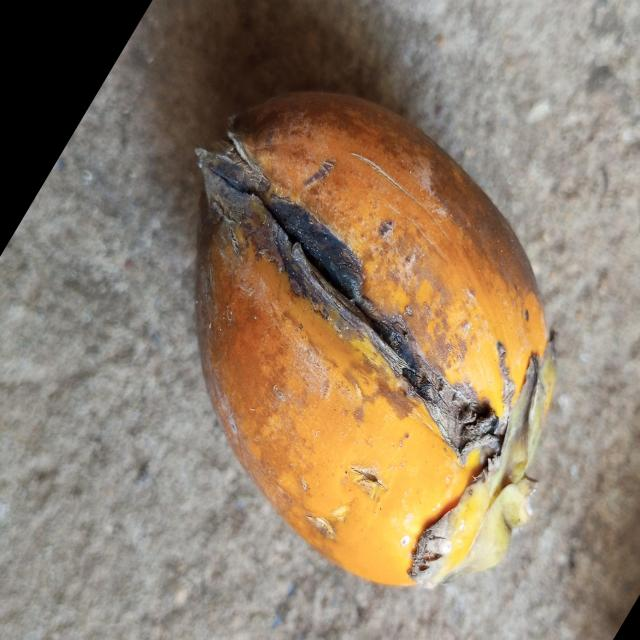damaged: (196, 92, 556, 587)
